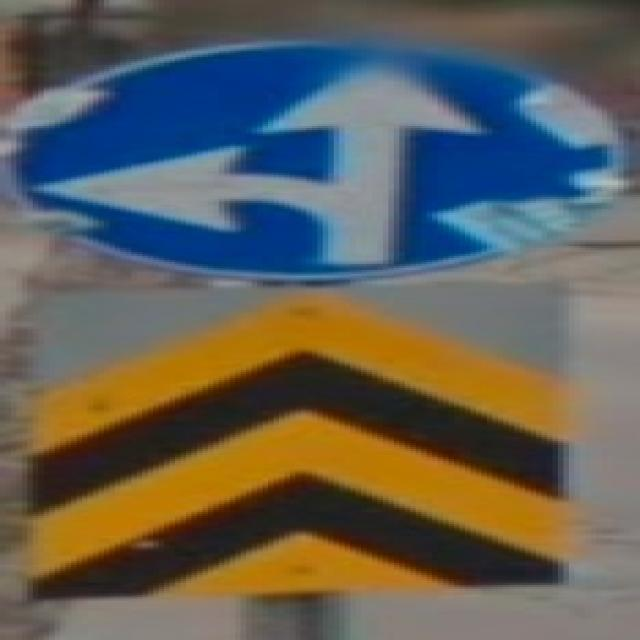Straight or Left: (4, 38, 622, 282)
